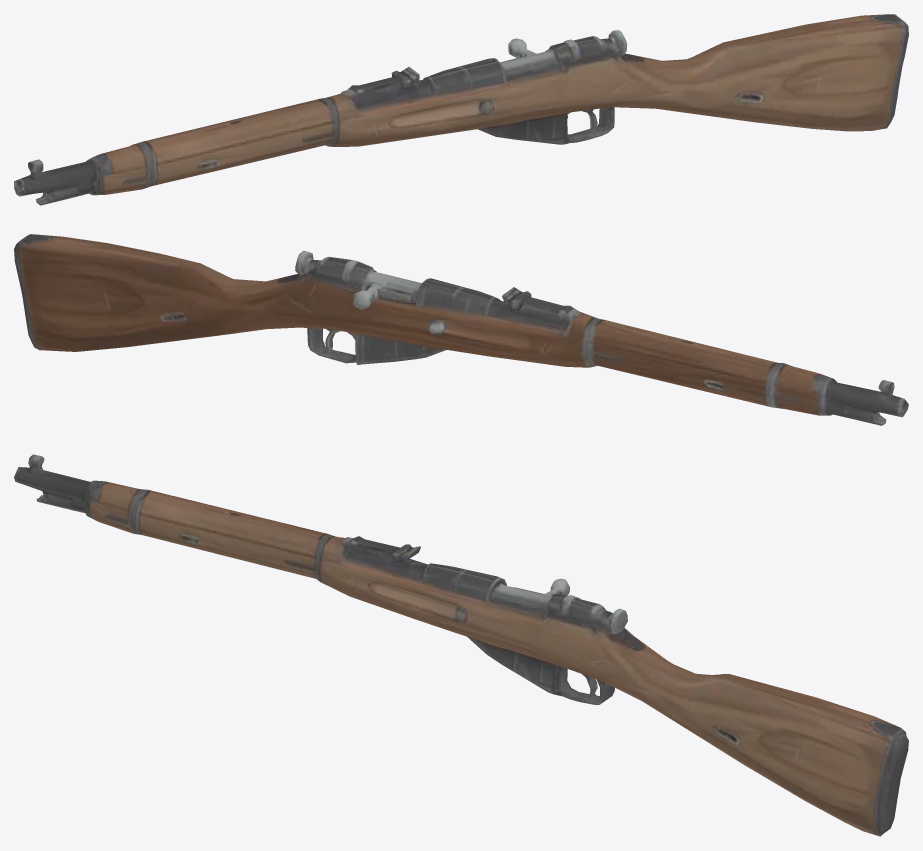
The model's file is rifle.glb.
The picture shows the model from 3 angles, top to bottom: view 1: azimuth 30°, elevation 25°; view 2: azimuth 150°, elevation 25°; view 3: azimuth 330°, elevation 25°; orthographic projection.
Parts seen in each view (by area): view 1: Mesh1.0; view 2: Mesh1.0; view 3: Mesh1.0.
Boxes of the visible parts, bbox=[...] form: Mesh1.0: bbox=[14, 14, 908, 205]; Mesh1.0: bbox=[14, 234, 908, 425]; Mesh1.0: bbox=[14, 454, 908, 836].
Bounding box in the file's own units: 1.91 × 0.3558 × 0.1579.
Materials: 1 (1 with a texture image).
